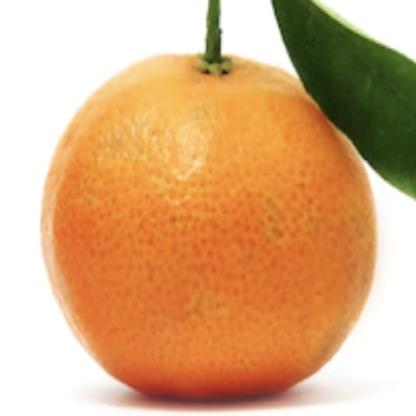fresh: (45, 50, 378, 400)
